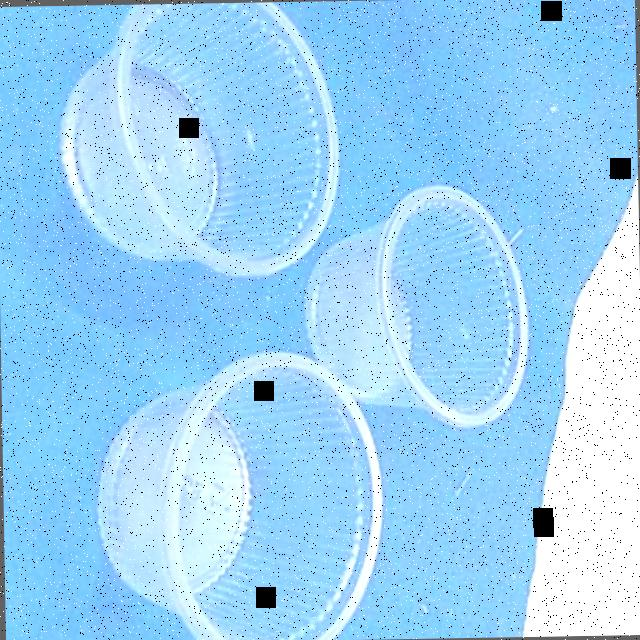plastic_box: (92, 347, 383, 640), (51, 1, 342, 282), (301, 180, 532, 423)
